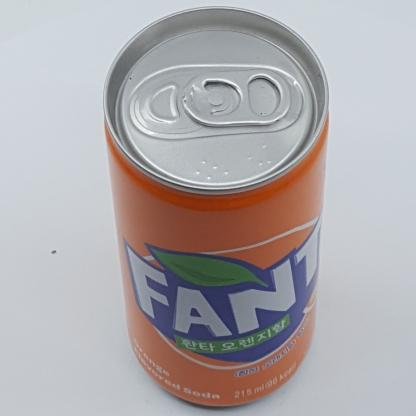-------215ML: (103, 5, 329, 407)
